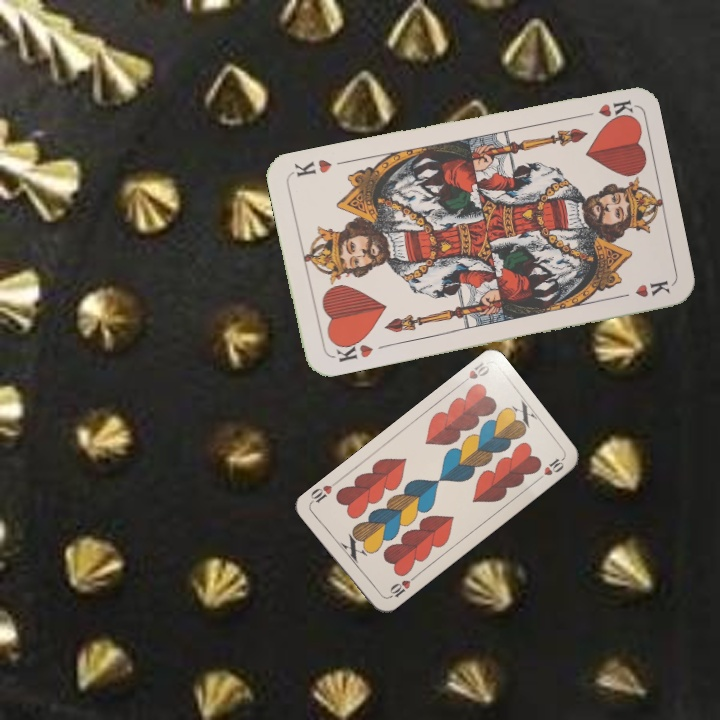H10: (455, 357, 492, 388), (383, 572, 418, 602)
HK: (574, 96, 634, 121), (330, 334, 376, 365)
